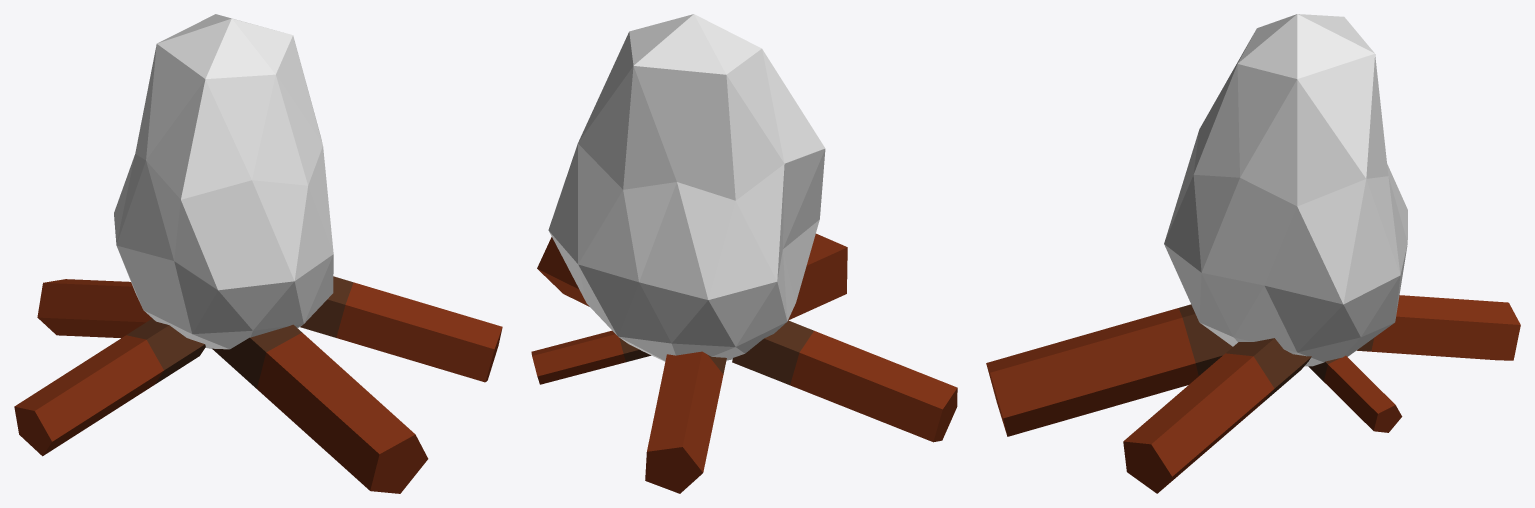
The model's file is Campfire(Non flipped Normals).fbx.
3 views of the same model, side by side, from view 1: azimuth 30°, elevation 25°; view 2: azimuth 150°, elevation 25°; view 3: azimuth 270°, elevation 25° (orthographic). The views are drawn at different scales.
Visible parts, largest first — view 1: Fire, FireLogs; view 2: Fire, FireLogs; view 3: Fire, FireLogs.
Part boxes in pixels (left/top/right/bottom): Fire: left=114, top=14, right=333, bottom=349; FireLogs: left=14, top=276, right=502, bottom=493; Fire: left=548, top=14, right=825, bottom=361; FireLogs: left=531, top=233, right=957, bottom=493; Fire: left=1164, top=14, right=1407, bottom=366; FireLogs: left=986, top=295, right=1520, bottom=493.
Bounding box in the file's own units: 242 × 204 × 243.
